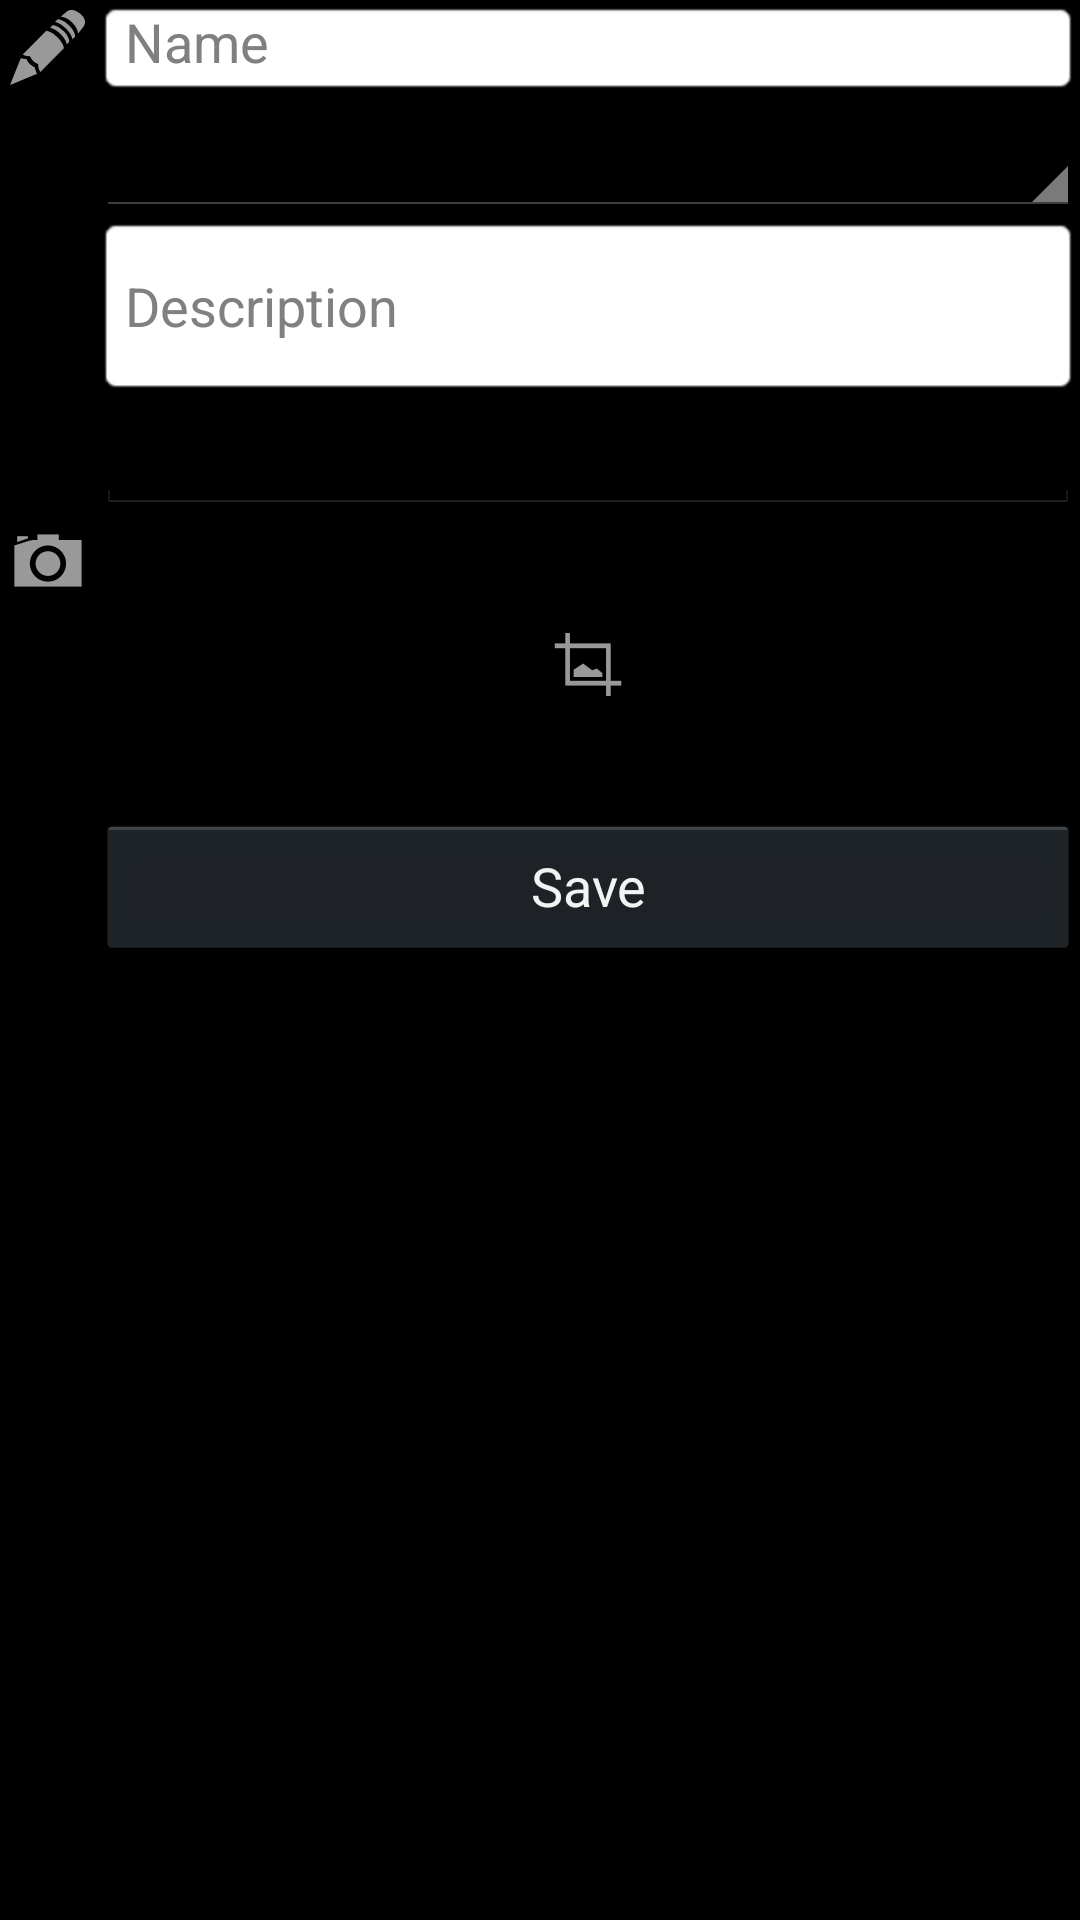

Screen size 1080px x 1920px. Icon name, then its center in pixels as [x,y]:
camera: [48,560]
crop: [588,664]
edit: [47,47]
